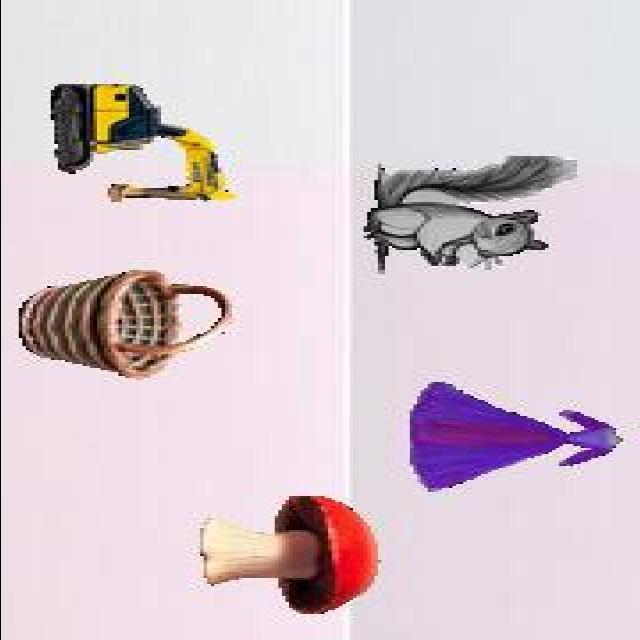Other Objects: (17, 270, 235, 379), (408, 382, 624, 492), (198, 496, 380, 616)
